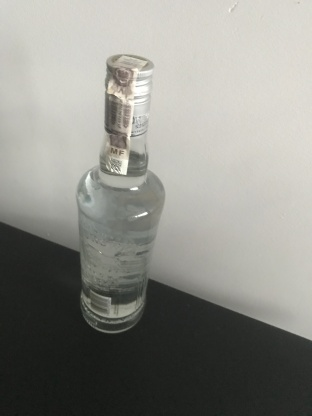nakretka: (103, 51, 154, 140)
